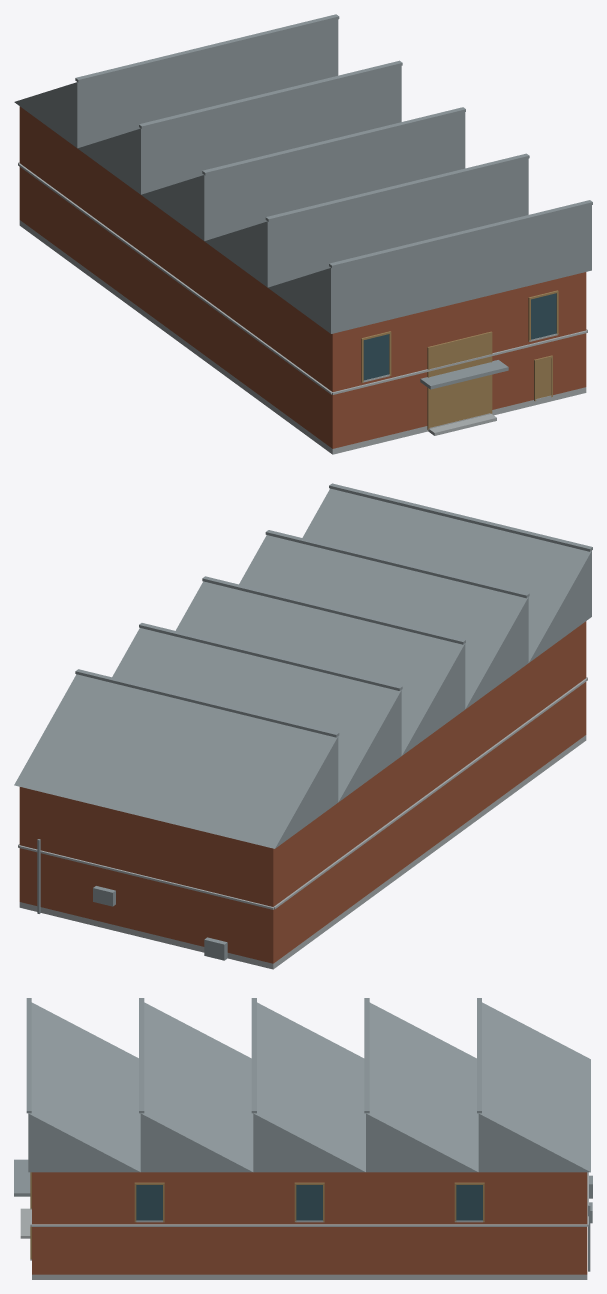
File: warehouse-brick.glb
3 renders of one model, top to bottom at view 1: azimuth 30°, elevation 25°; view 2: azimuth 150°, elevation 25°; view 3: azimuth 270°, elevation 25°, orthographic. The views are drawn at different scales.
Visible parts, largest first — view 1: wall-envelope, roof-sawtooth-04, roof-sawtooth-02, roof-sawtooth-00, roof-sawtooth-03, roof-sawtooth-01, opening-front-loading-door, ground-contact-plinth, warehouse-brick-ridge-cap-00, warehouse-brick-ridge-cap-03, warehouse-brick-ridge-cap-04, warehouse-brick-ridge-cap-02 (+8 smaller); view 2: wall-envelope, roof-sawtooth-00, roof-sawtooth-02, roof-sawtooth-01, roof-sawtooth-04, roof-sawtooth-03, ground-contact-plinth, warehouse-brick-ridge-cap-00, warehouse-brick-ridge-cap-03, warehouse-brick-ridge-cap-02, warehouse-brick-ridge-cap-01, warehouse-brick-ridge-cap-04 (+2 smaller); view 3: wall-envelope, roof-sawtooth-03, roof-sawtooth-00, roof-sawtooth-04, roof-sawtooth-01, roof-sawtooth-02, ground-contact-plinth, storey-line-01-east, opening-east-industrial-centre, opening-east-industrial-front, opening-east-industrial-rear, warehouse-brick-ridge-cap-01 (+5 smaller).
Boxes of the visible parts, x1,y1,x2,y2 form: wall-envelope: (19,106,586,448); roof-sawtooth-04: (268,205,591,333); roof-sawtooth-02: (141,112,465,241); roof-sawtooth-00: (14,19,338,148); roof-sawtooth-03: (204,158,528,287); roof-sawtooth-01: (78,66,401,194); opening-front-loading-door: (430,334,490,427); ground-contact-plinth: (19,220,586,454); warehouse-brick-ridge-cap-00: (75,14,339,82); warehouse-brick-ridge-cap-03: (265,153,529,221); warehouse-brick-ridge-cap-04: (329,200,592,268); warehouse-brick-ridge-cap-02: (202,107,465,175); wall-envelope: (19,621,586,963); roof-sawtooth-00: (14,674,338,848); roof-sawtooth-02: (175,581,465,755); roof-sawtooth-01: (112,628,401,802); roof-sawtooth-04: (302,488,591,662); roof-sawtooth-03: (239,535,528,709); ground-contact-plinth: (19,735,586,969); warehouse-brick-ridge-cap-00: (75,669,339,737); warehouse-brick-ridge-cap-03: (265,530,529,598); warehouse-brick-ridge-cap-02: (202,576,465,644); warehouse-brick-ridge-cap-01: (139,623,402,690); warehouse-brick-ridge-cap-04: (329,483,592,551); wall-envelope: (32,1172,587,1274); roof-sawtooth-03: (140,1002,253,1172); roof-sawtooth-00: (478,1002,590,1172); roof-sawtooth-04: (28,1002,140,1172); roof-sawtooth-01: (366,1002,478,1172); roof-sawtooth-02: (253,1002,365,1172); ground-contact-plinth: (32,1274,587,1279); storey-line-01-east: (32,1224,587,1226); opening-east-industrial-centre: (296,1185,322,1220); opening-east-industrial-front: (136,1185,162,1220); opening-east-industrial-rear: (456,1185,482,1220); warehouse-brick-ridge-cap-01: (364,998,369,1113).
Size of the model in its own units: 14.2 by 9.99 by 30.75.
